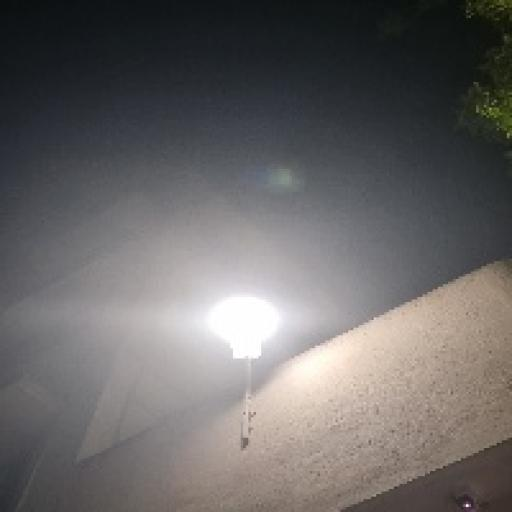Working: (197, 288, 292, 365)
